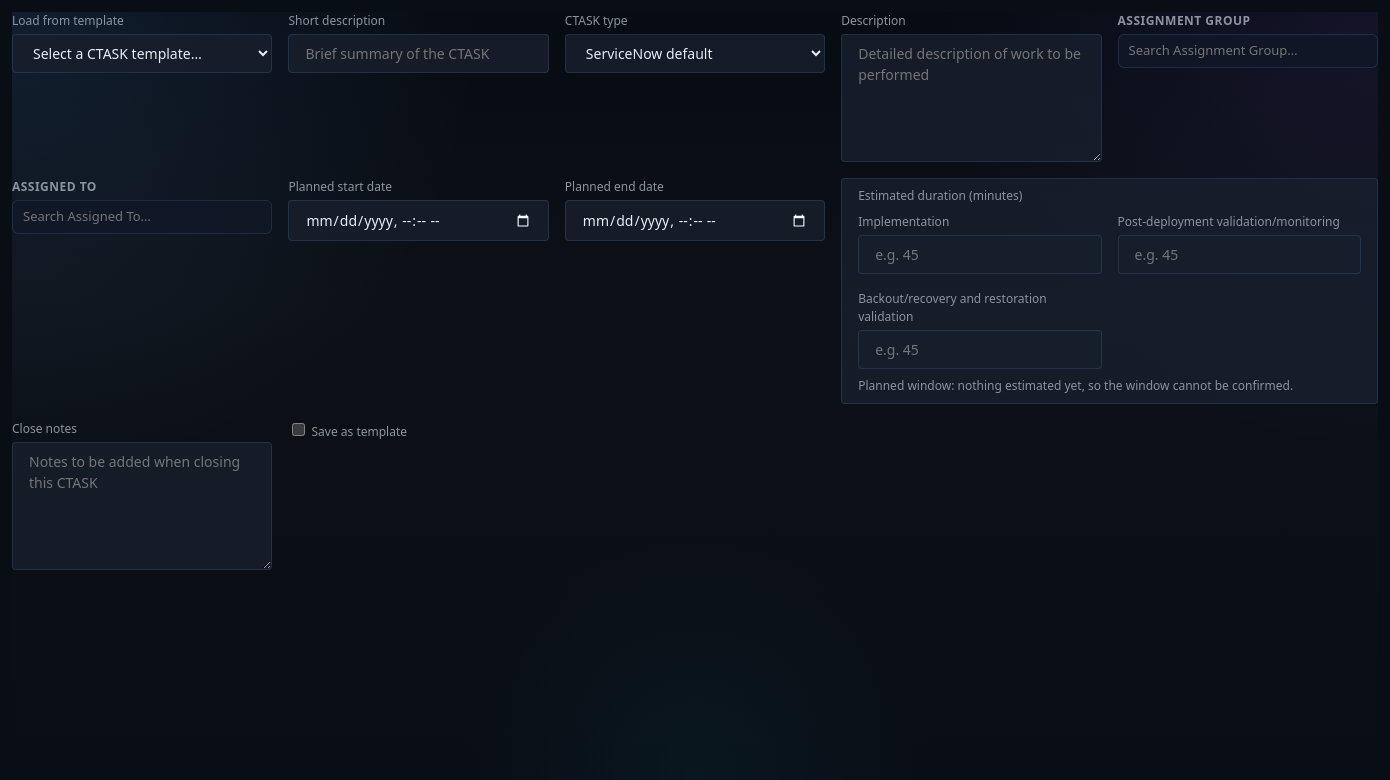
Test: CtaskEditForm › save as template › disables save button when template name is empty
The width and height of the screenshot is (1390, 780).
Click the checkbox named "Save as template checkbox": (299, 430) [292, 423, 305, 436]
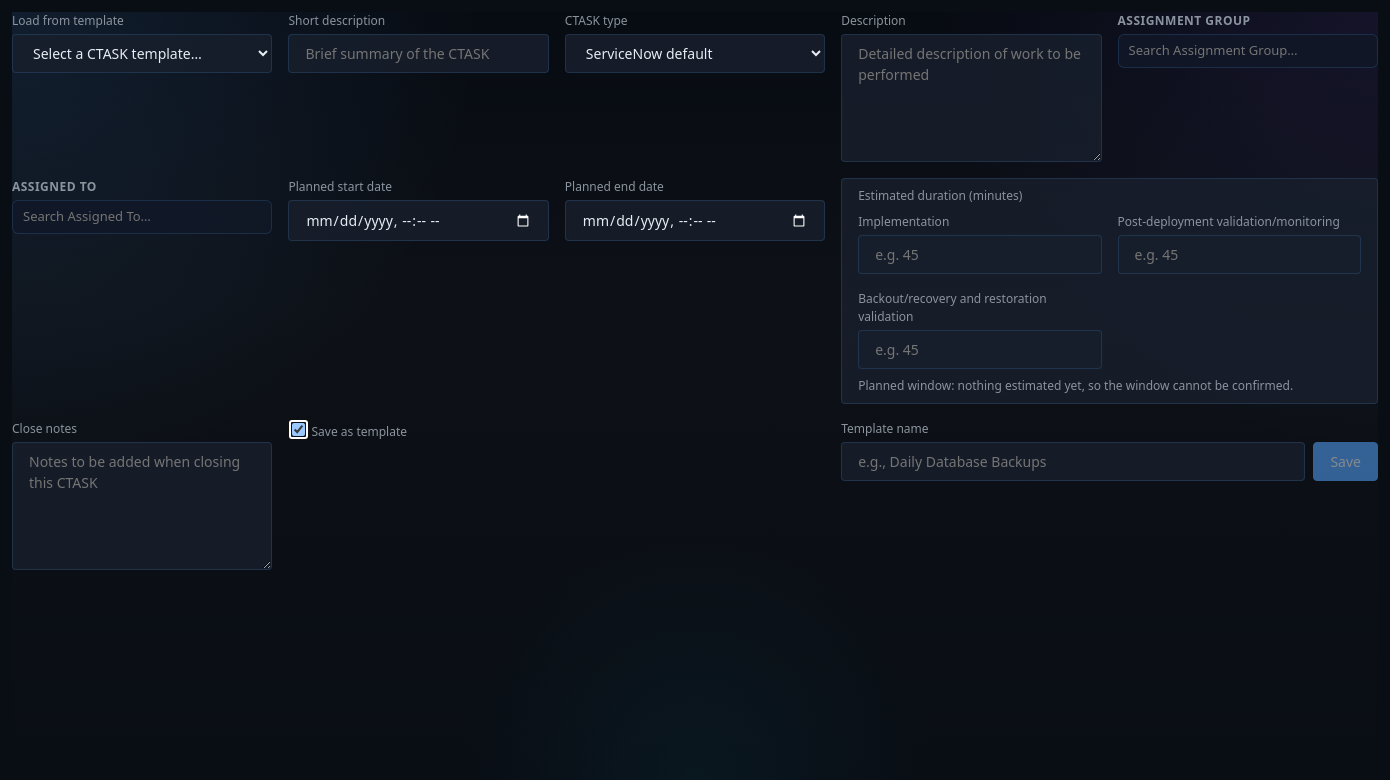
Result: the button "Save" is disabled at [1313, 442, 1378, 481]
In the field with placeholder "e.g., Daily Database Backups": (1073, 462) [841, 442, 1305, 481], type "Valid Name"
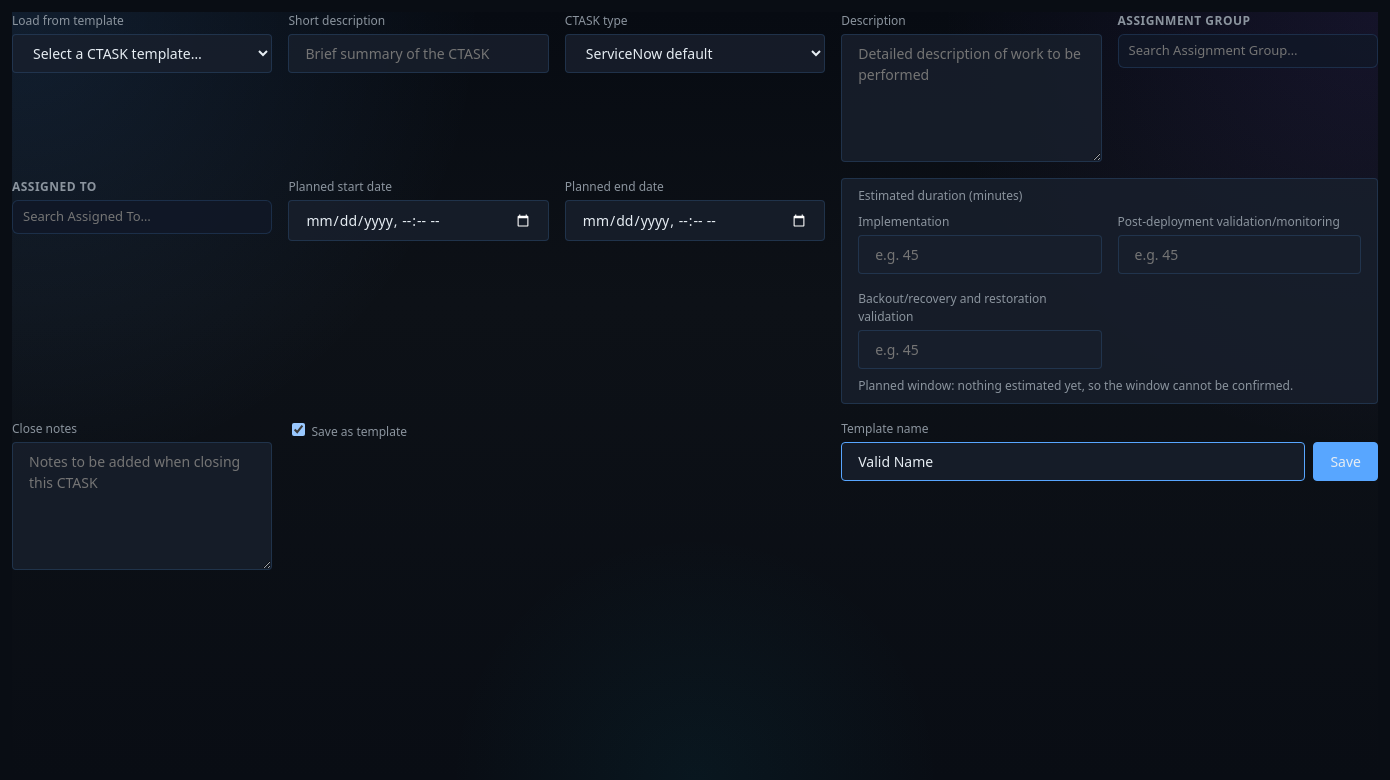
Result: the button "Save" is enabled at [1313, 442, 1378, 481]
